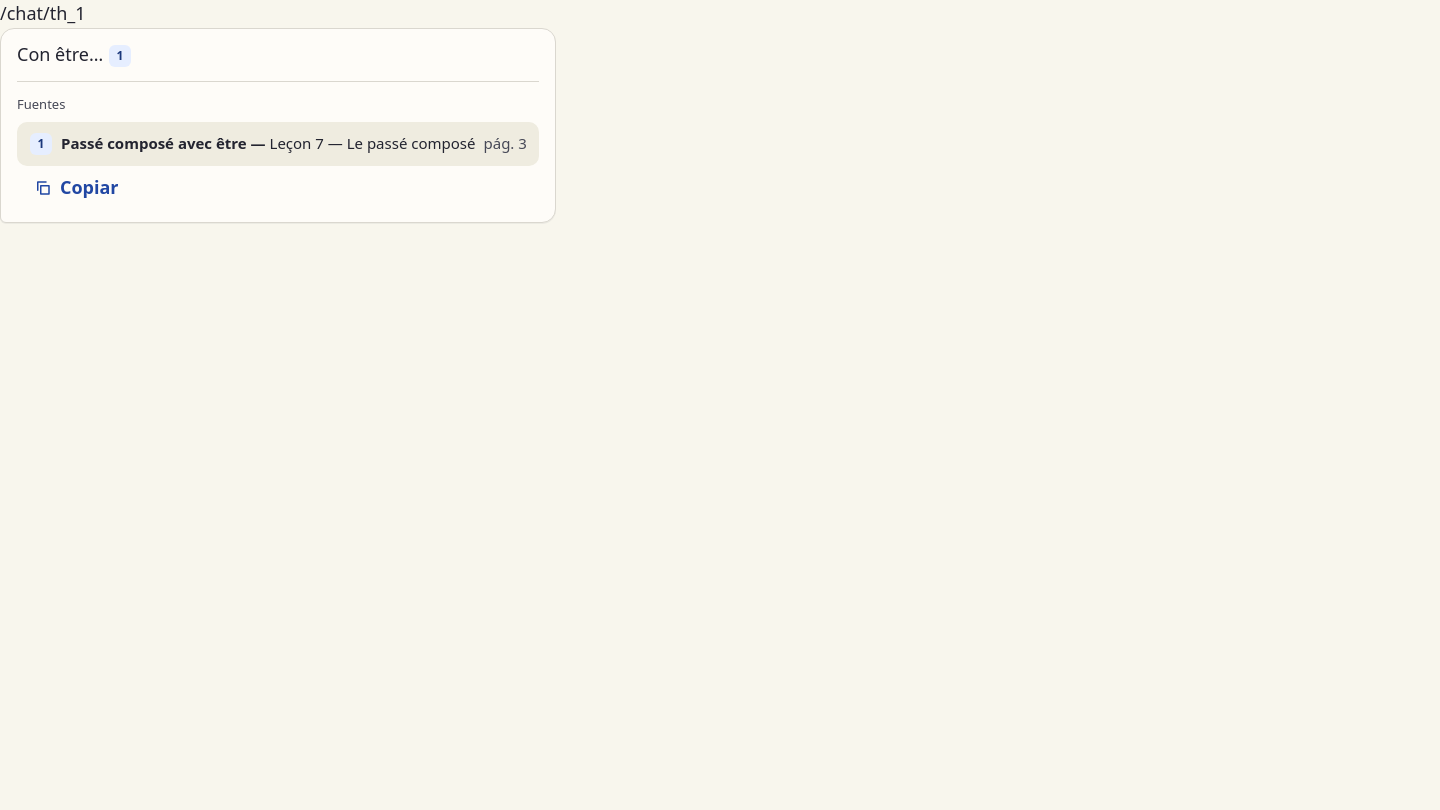
Test: un toque abre la vista previa sin navegar hasta el enlace interior
What coordinates should you click on to do the following:
click the link named "Fuente 1"
I would click on:
 (120, 56)
Its box is [109,45,131,67].
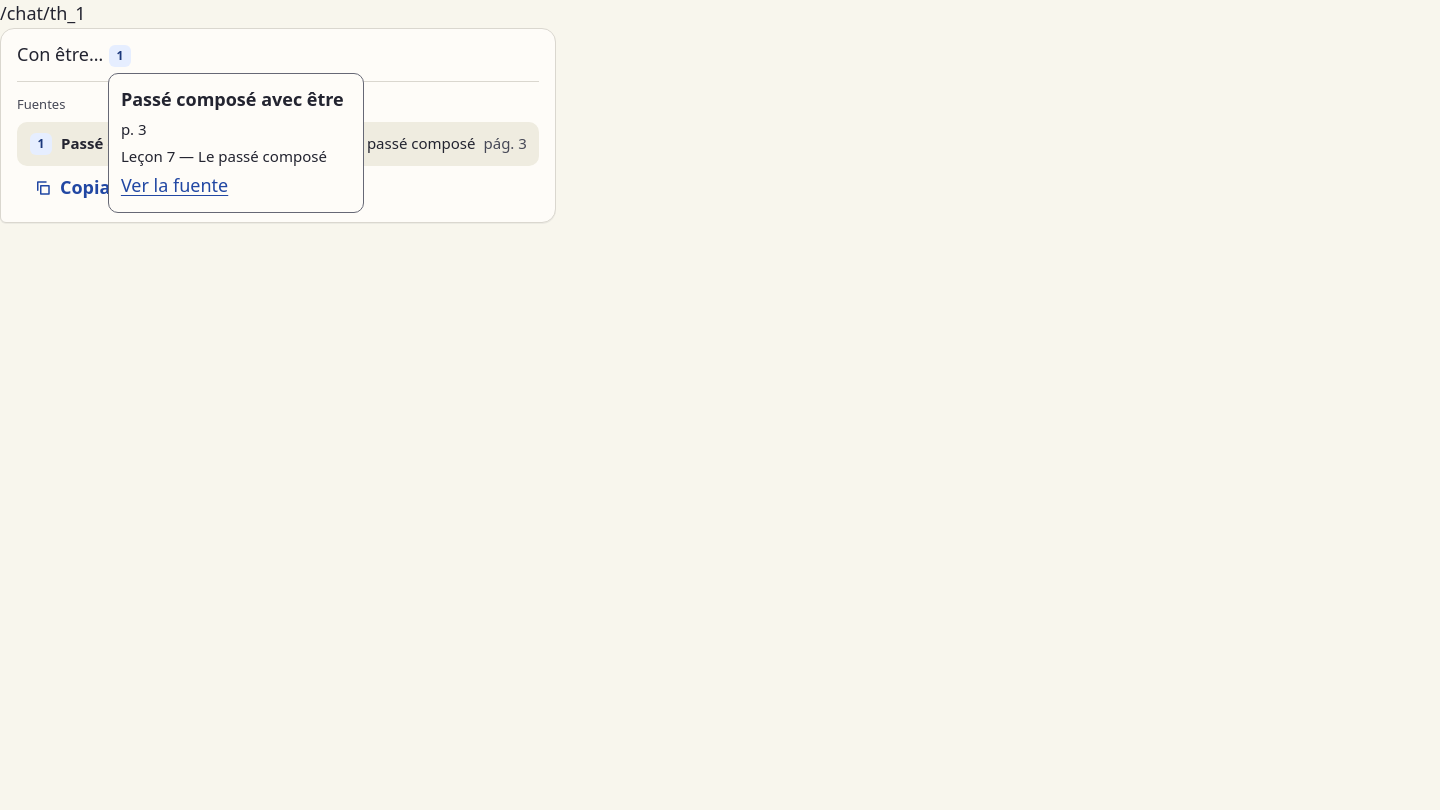
expect the text with test id "path" reads "/chat/th_1": met, box [0,1,86,25]
What coordinates should you click on to do the following:
click the link "Ver la fuente"
I would click on:
 (175, 185)
Its box is [121,173,228,197].
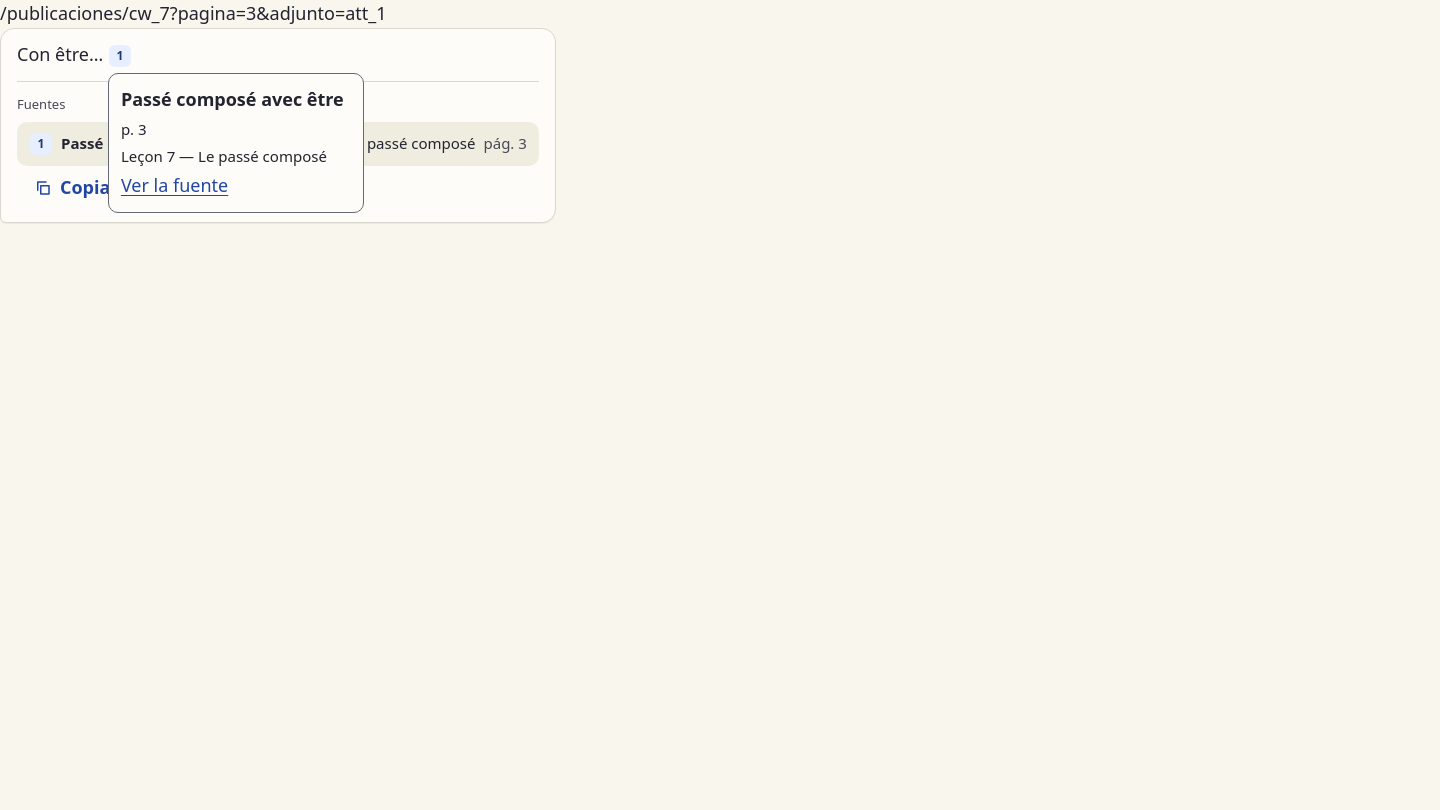
expect the text with test id "path" reads "/publicaciones/cw_7?pagina=3&adjunto=att_1": met, box [0,1,387,25]
